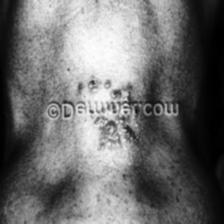Toxin: (91, 113, 137, 153), (73, 75, 135, 101)
